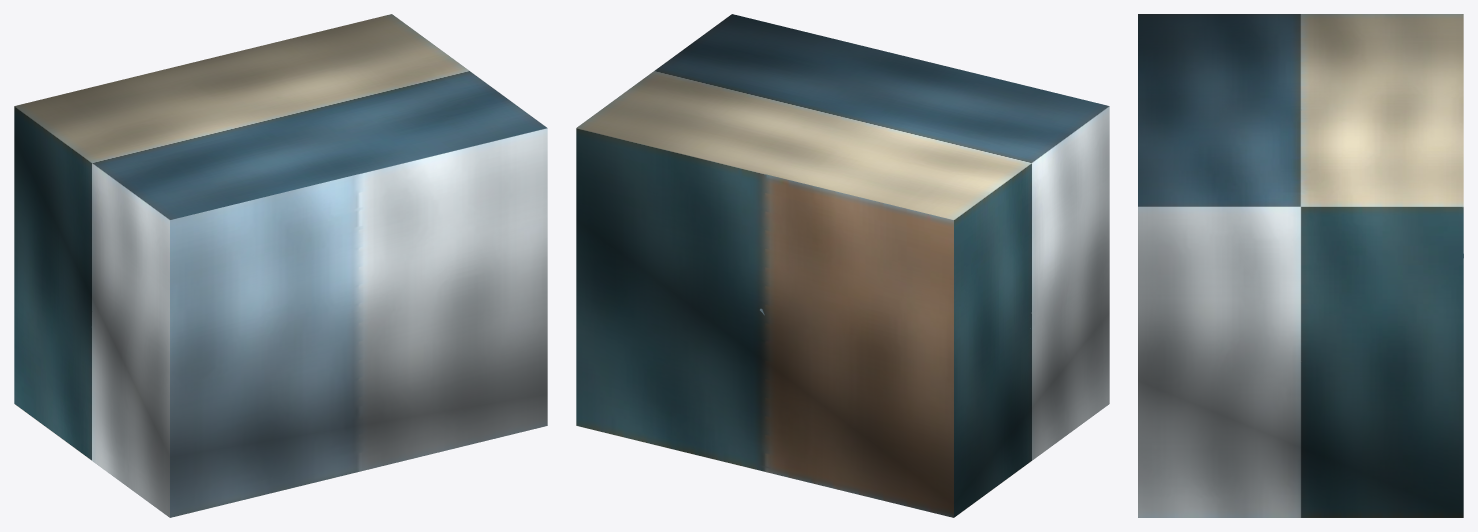
Rendered from rock_snow_b.glb.
3 views of the same model, side by side, from view 1: azimuth 30°, elevation 25°; view 2: azimuth 150°, elevation 25°; view 3: azimuth 270°, elevation 25° (orthographic). The views are drawn at different scales.
Parts seen in each view (by area): view 1: col; view 2: col; view 3: col.
Boxes of the visible parts, x1,y1,x2,y2 form: col: (14,14,547,517); col: (576,14,1109,517); col: (1138,14,1463,517).
Bounding box in the file's own units: 2.34 × 1.76 × 1.67.
Materials: 1 (1 with a texture image).
